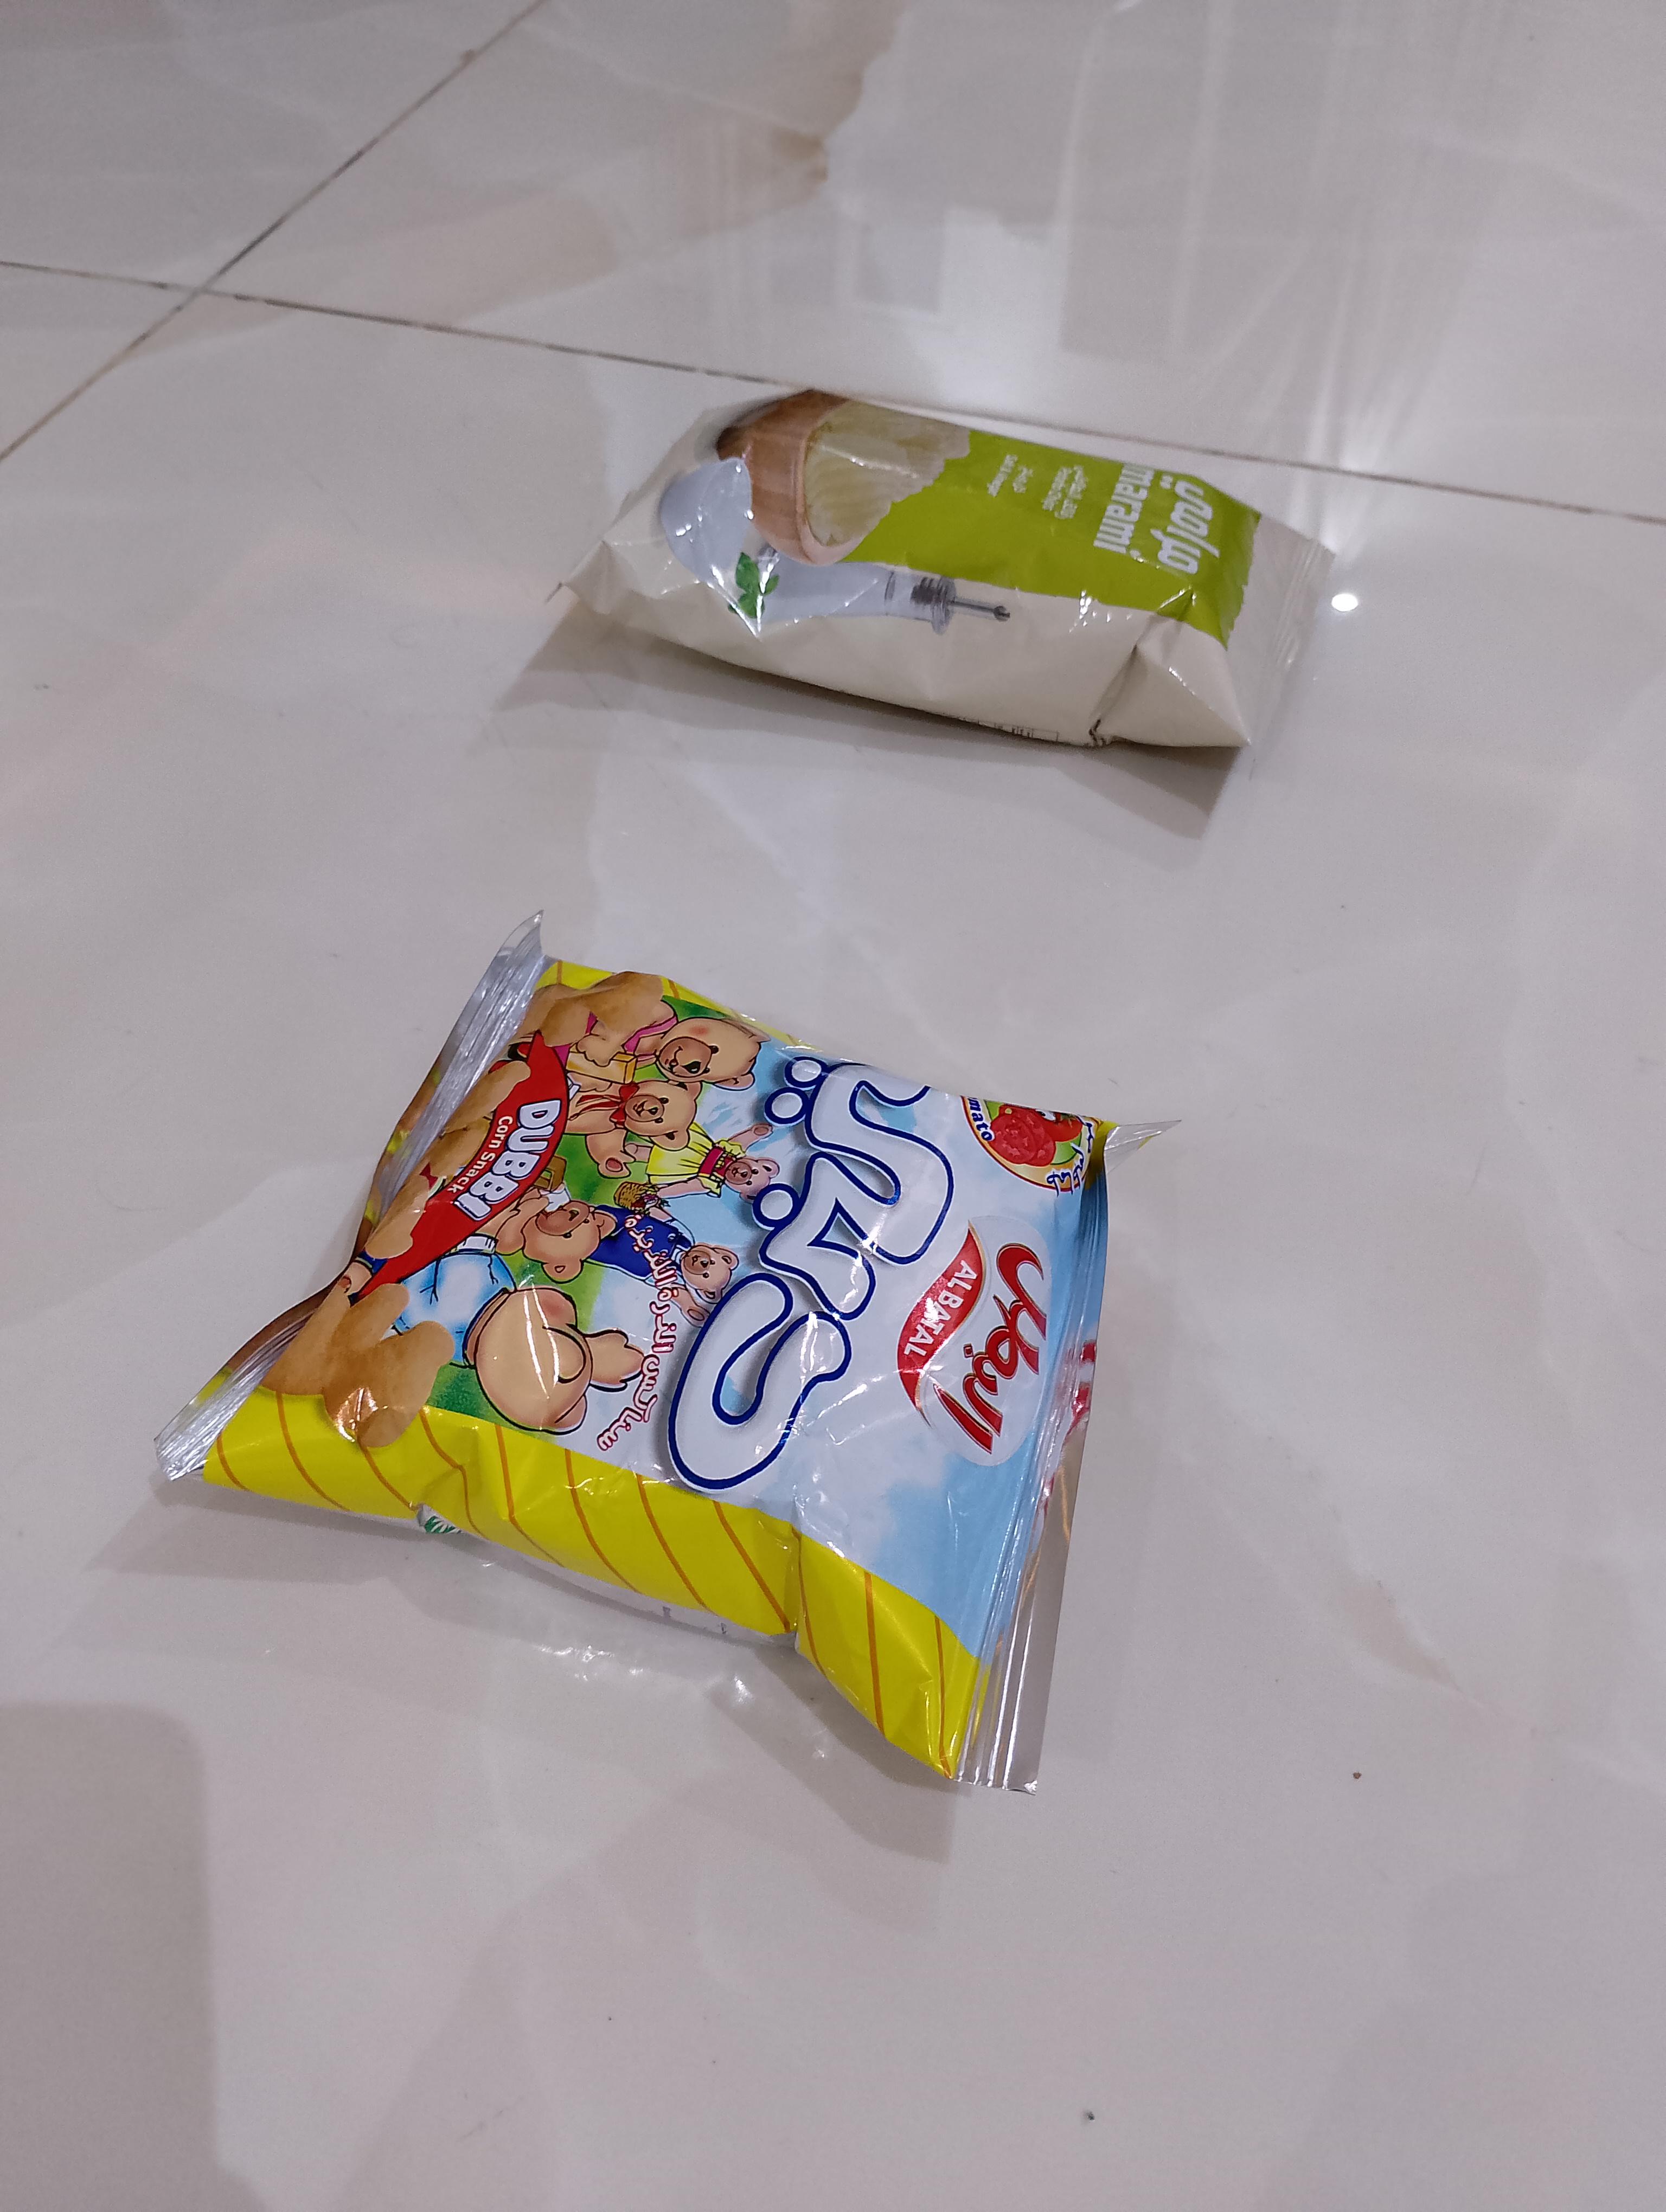albatal_dubbi_corn_snack: (152, 904, 1183, 1799)
marami_salt_&_vinegar: (544, 385, 1339, 782)
